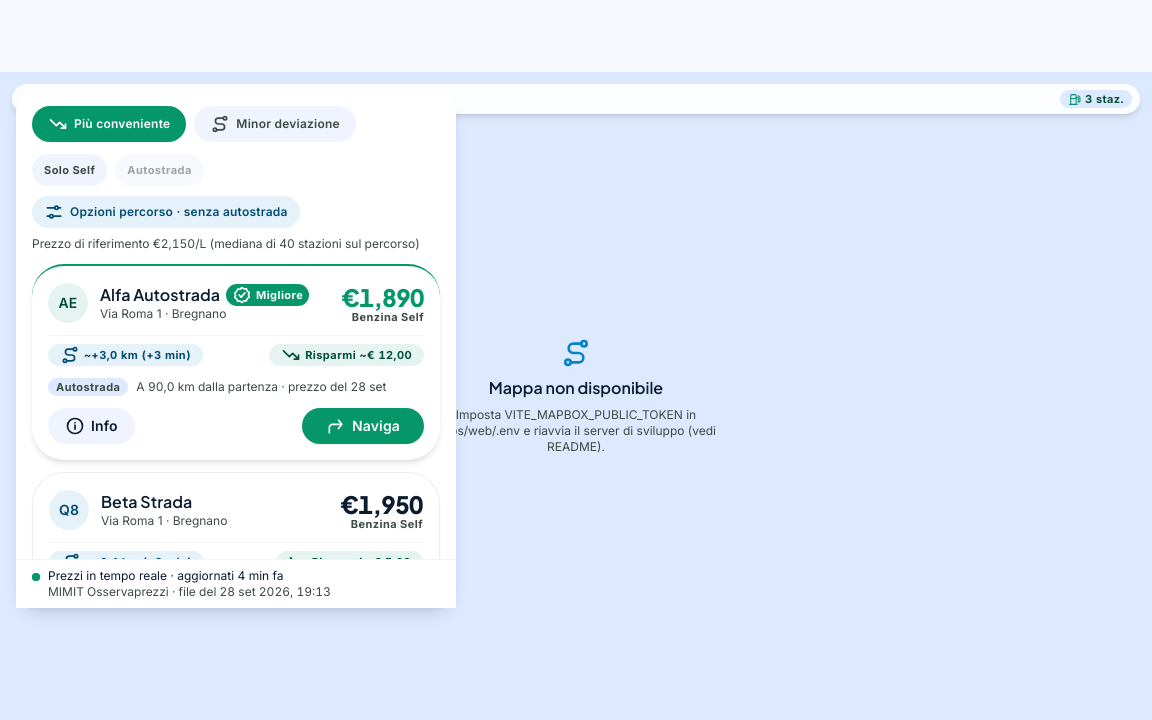
ResultsScreen — «Opzioni percorso» › «Applica» rilancia la ricerca con le nuove esclusioni e chiude il foglio; la richiesta (A/B) la compone il chiamante
Click the button with test id "route-options-chip": x=166, y=212 [32, 196, 300, 228]
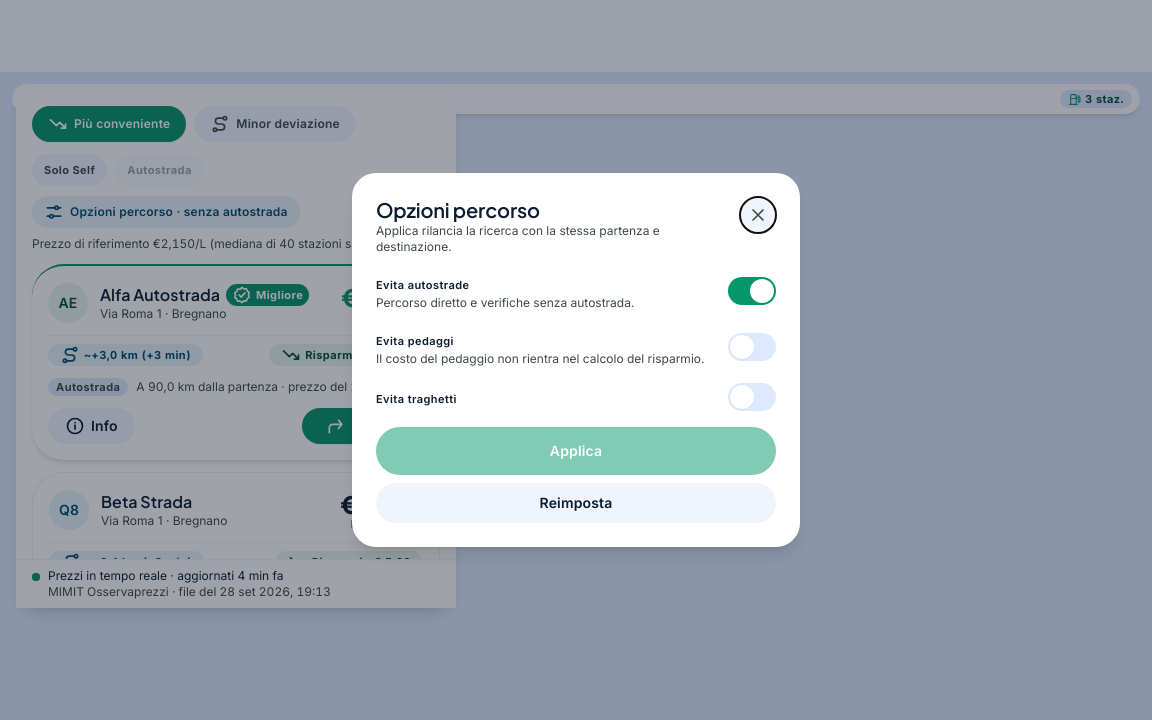
Click the switch named "Evita pedaggi" in the row of "Evita pedaggi": x=752, y=347 [728, 333, 776, 361]
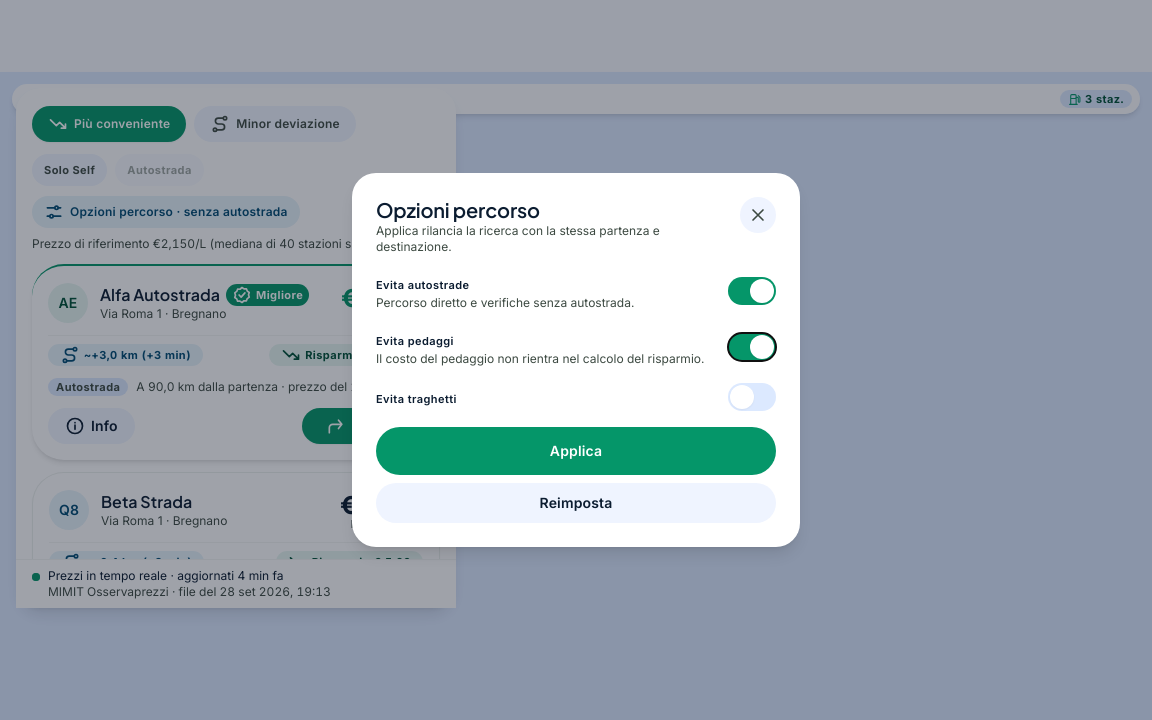
Click the switch named "Evita traghetti" in the row of "Evita traghetti": x=752, y=397 [728, 383, 776, 411]
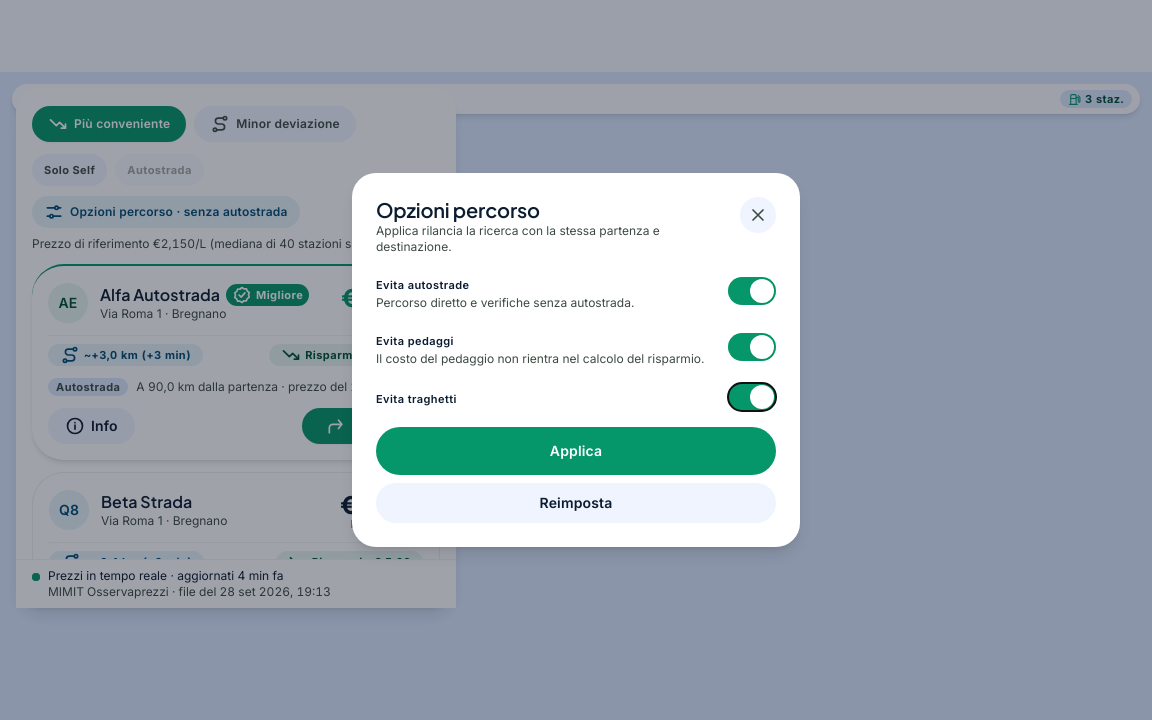
Click the switch named "Evita autostrade" in the row of "Evita autostrade": x=752, y=291 [728, 277, 776, 305]
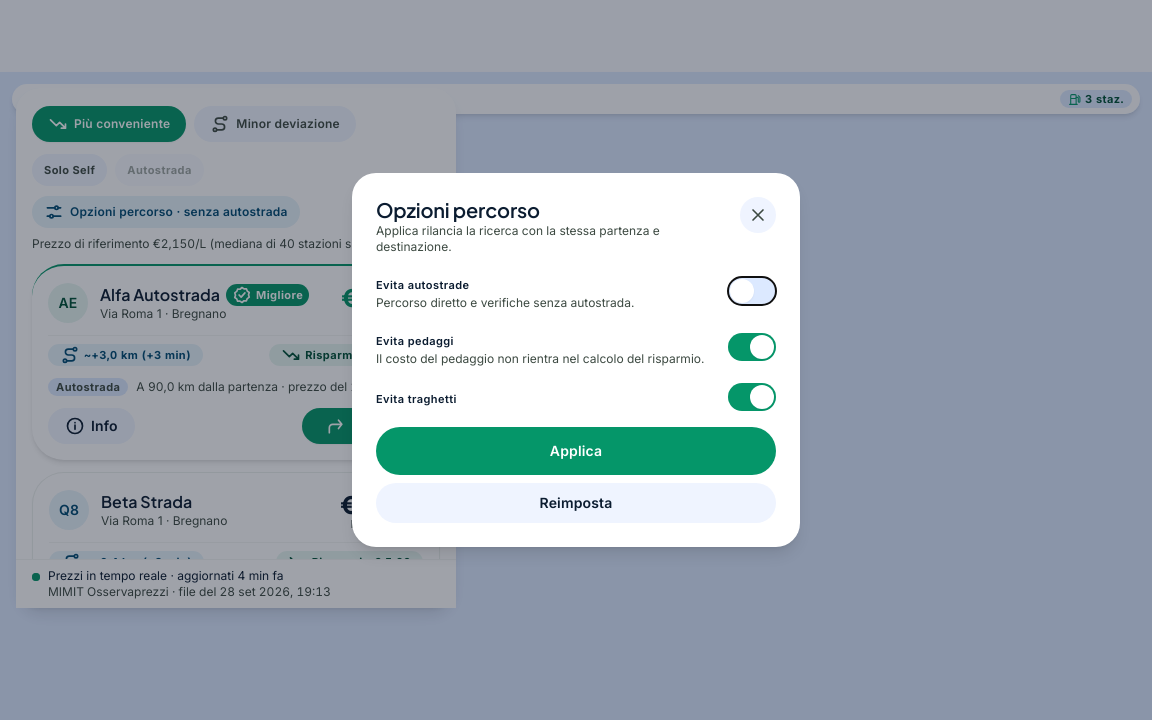
Click the button "Applica": x=576, y=451 [376, 427, 776, 475]
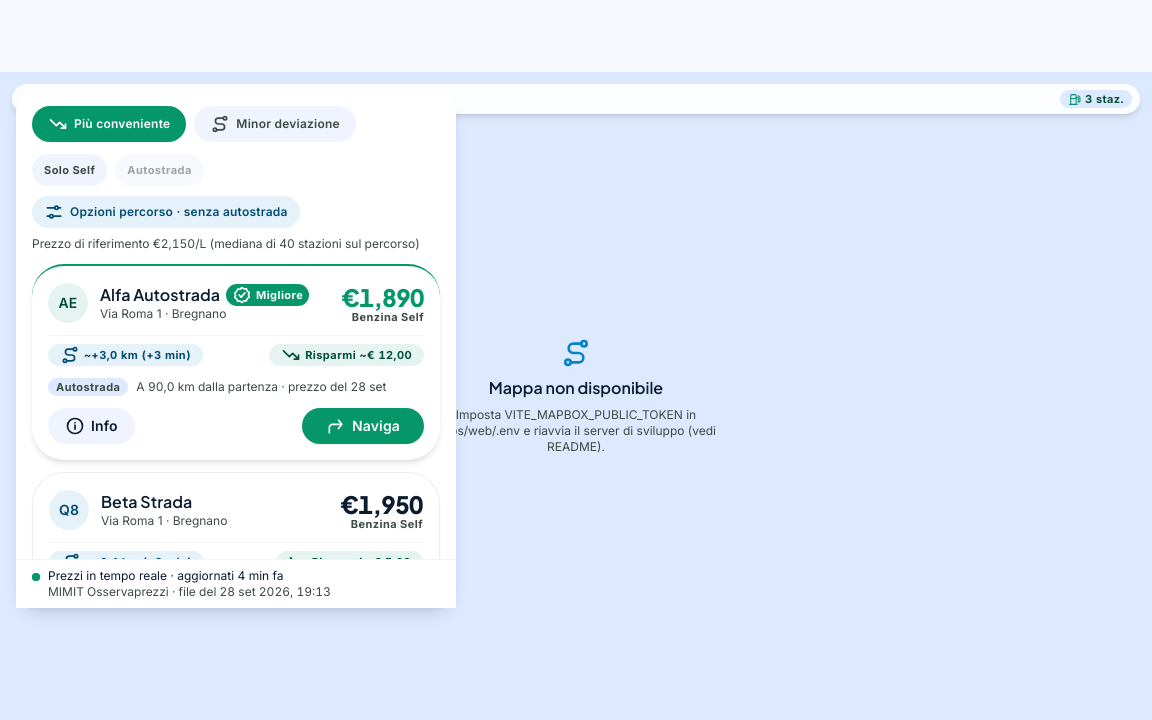
Result: the dialog is gone
